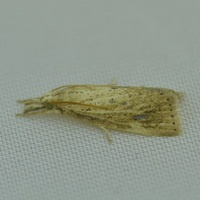insect: (17, 83, 184, 142)
